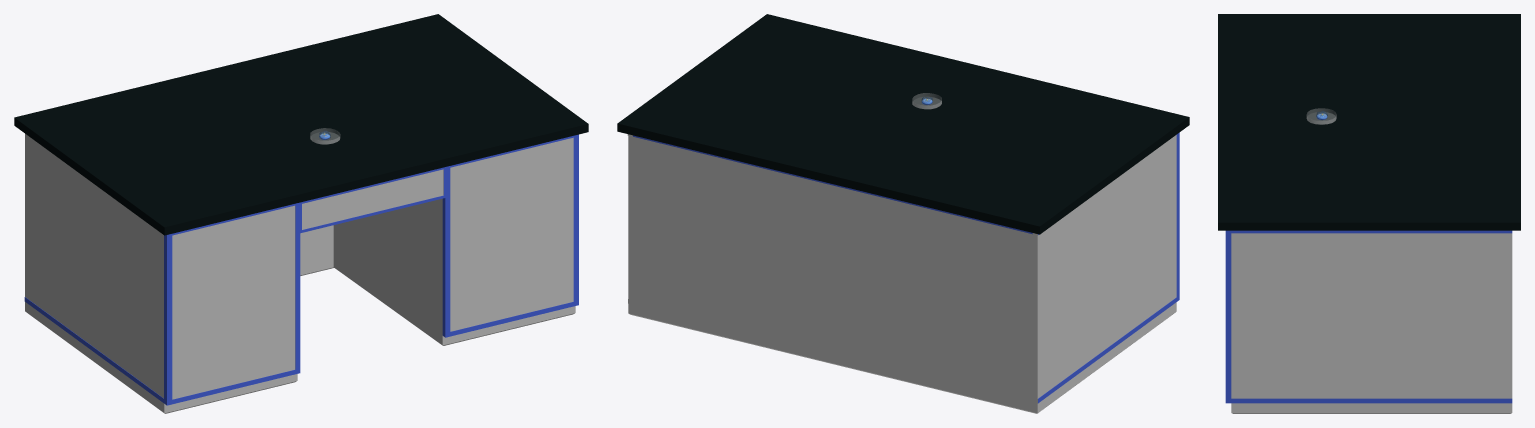
The model's file is SelHewanBroken+Meja.glb.
The picture shows the model from 3 angles, left to right: view 1: azimuth 30°, elevation 25°; view 2: azimuth 150°, elevation 25°; view 3: azimuth 270°, elevation 25°; orthographic projection.
Parts seen in each view (by area): view 1: Cube.001; view 2: Cube.001; view 3: Cube.001, Cube.002.
Boxes of the visible parts, x1,y1,x2,y2 form: Cube.001: (14, 14, 588, 413); Cube.001: (617, 14, 1189, 413); Cube.001: (1218, 14, 1520, 413); Cube.002: (1306, 108, 1336, 124).
Bounding box in the file's own units: 2.06 × 0.9292 × 1.27.
